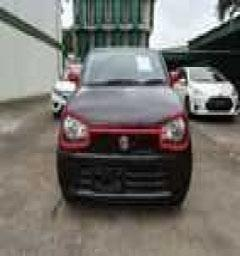car: (59, 34, 210, 226), (166, 55, 238, 138), (42, 57, 81, 108)
